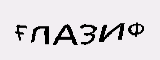А: (51, 23, 80, 47)
З: (78, 23, 96, 46)
И: (97, 22, 126, 44)
Л: (28, 25, 51, 45)
Ф: (126, 22, 147, 38)
Ғ: (14, 23, 27, 41)
